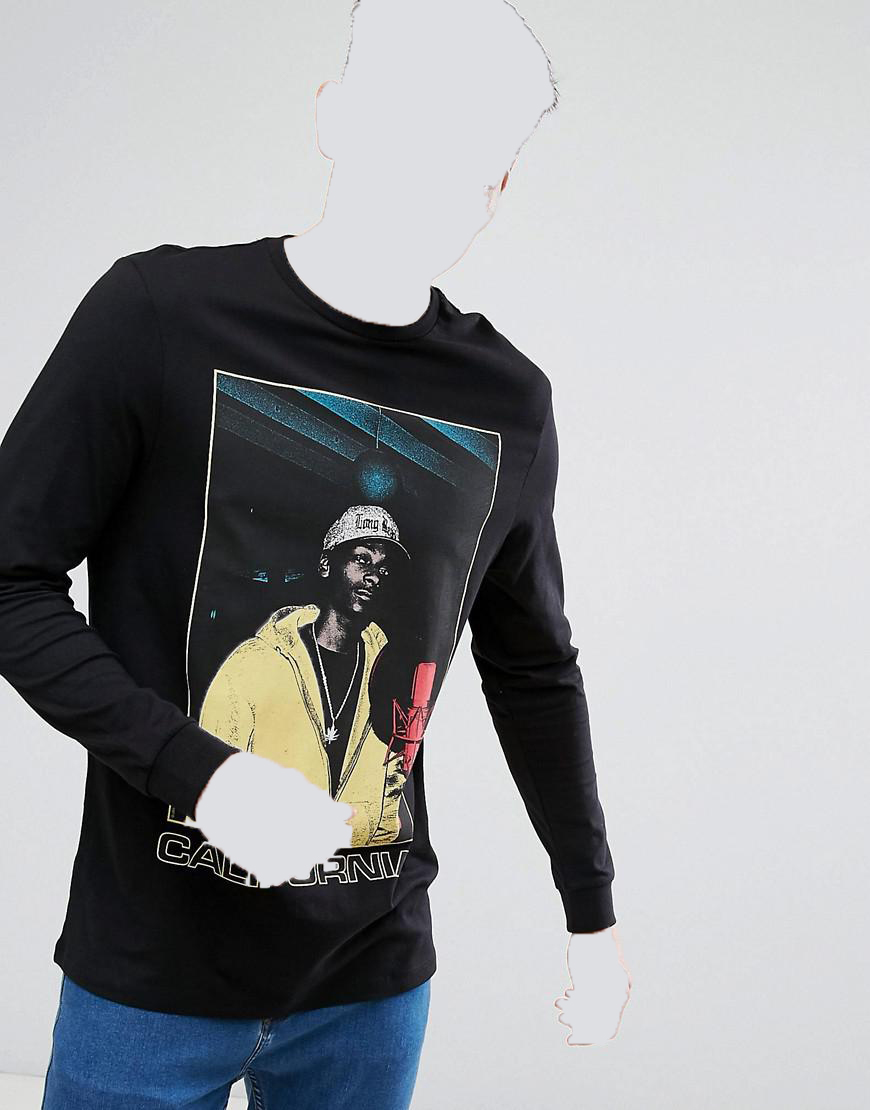teeshirt: (8, 222, 627, 1008)
